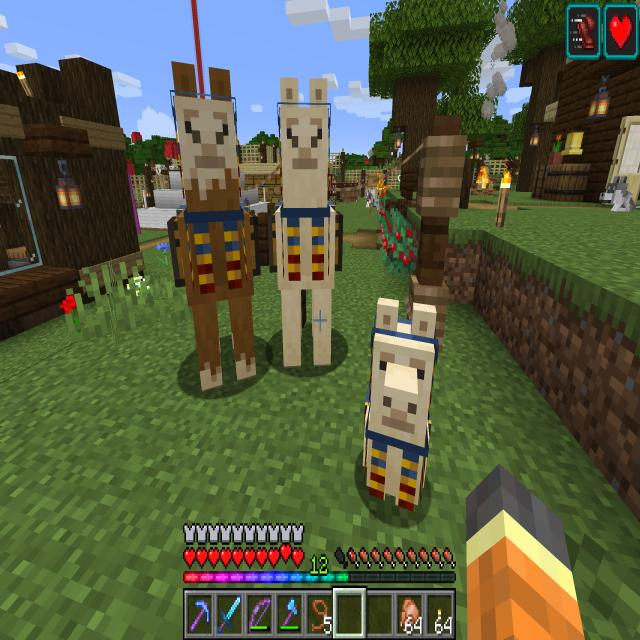Trader Lama: (166, 58, 260, 393), (270, 75, 342, 368), (361, 296, 438, 512)
